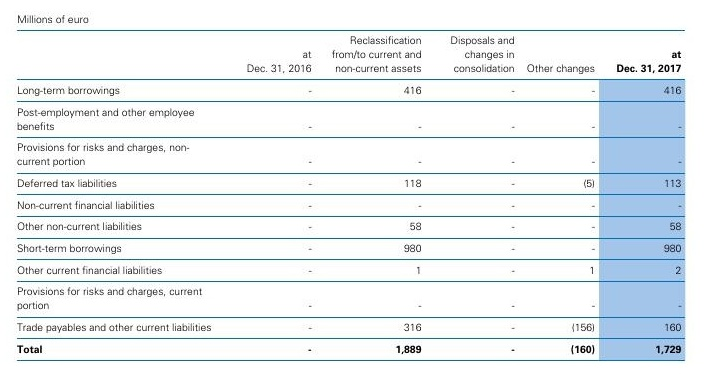table: (0, 0, 705, 374)
